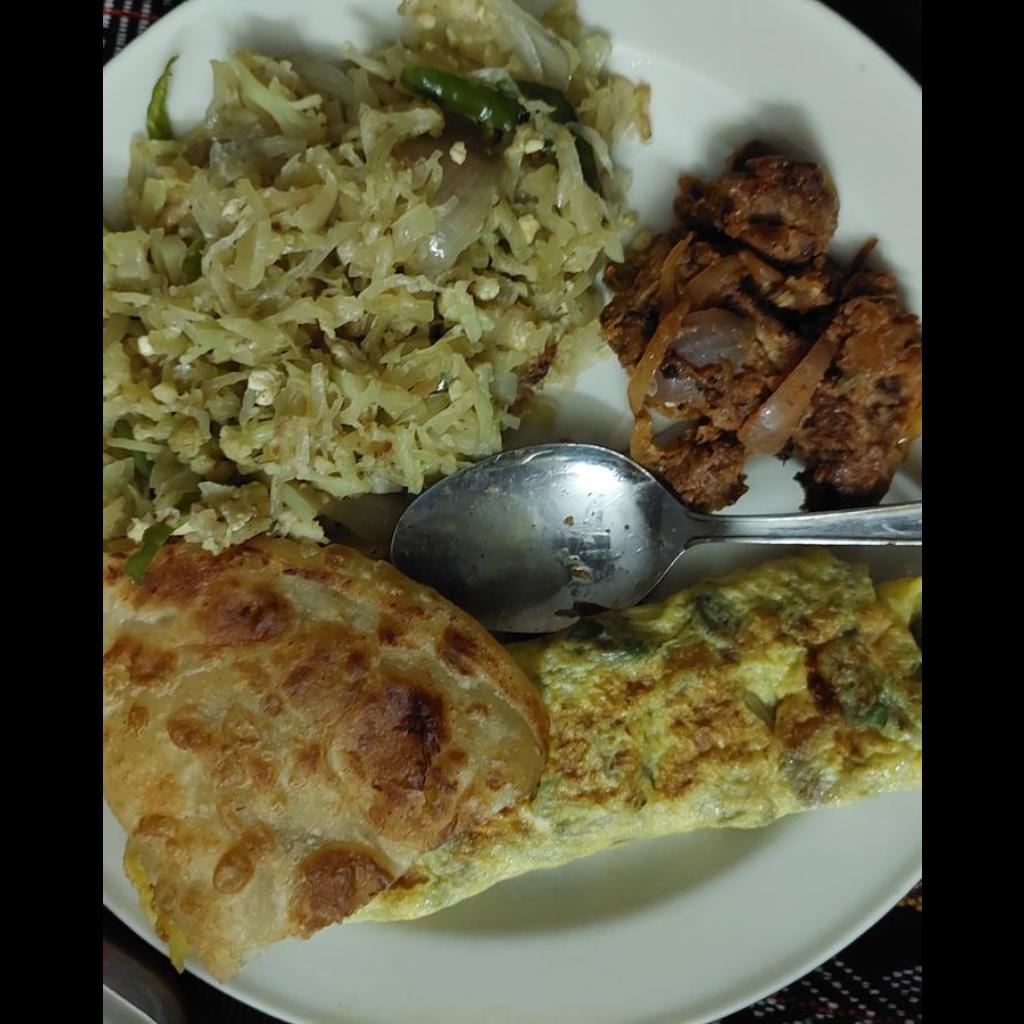beef: (600, 133, 920, 516)
egg-poached: (365, 549, 920, 920)
ruti: (102, 536, 543, 977)
vaji: (102, 4, 634, 535)
